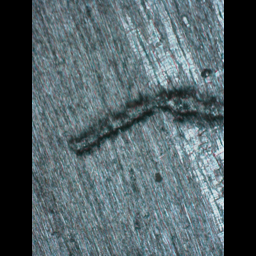d: (66, 68, 223, 161)
